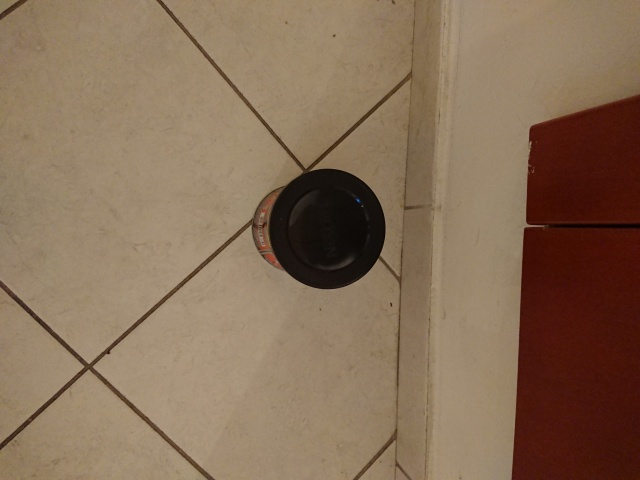Nescafe Classic 225g: (248, 166, 390, 292)
